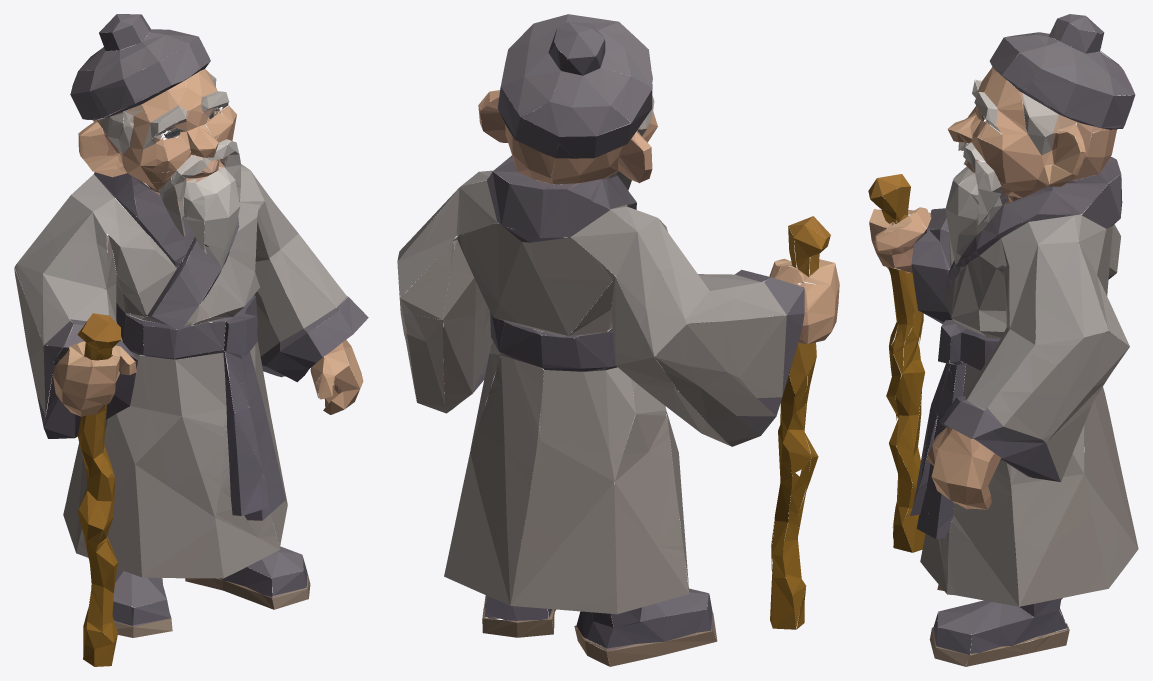
File: fig-elder.glb
The picture shows the model from 3 angles, left to right: view 1: azimuth 30°, elevation 25°; view 2: azimuth 150°, elevation 25°; view 3: azimuth 270°, elevation 25°; orthographic projection. The views are drawn at different scales.
Parts seen in each view (by area): view 1: source; view 2: source; view 3: source.
Part boxes in pixels (x1,y1,x2,y2): source: (14,14,368,666); source: (397,14,839,666); source: (868,14,1138,666).
Bounding box in the file's own units: 0.6302 × 1 × 0.4201.
